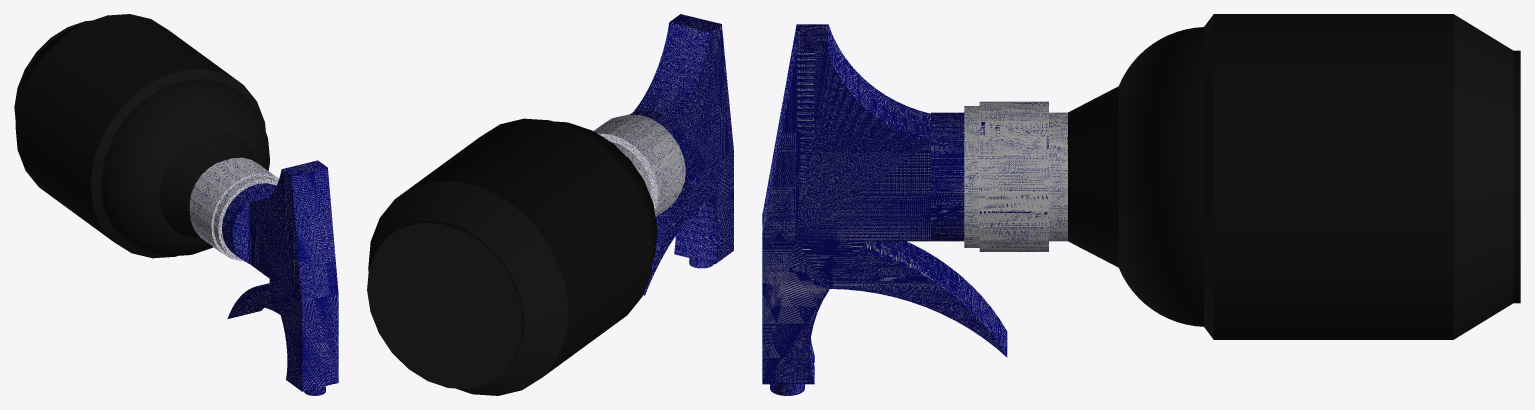
File: model_align.obj
The picture shows the model from 3 angles, left to right: view 1: azimuth 30°, elevation 25°; view 2: azimuth 150°, elevation 25°; view 3: azimuth 270°, elevation 25°; orthographic projection. The views are drawn at different scales.
Visible parts, largest first — view 1: mesh1_mesh1-geometry; view 2: mesh1_mesh1-geometry; view 3: mesh1_mesh1-geometry.
Part boxes in pixels (x1,y1,x2,y2): mesh1_mesh1-geometry: (14, 14, 338, 395); mesh1_mesh1-geometry: (367, 14, 733, 395); mesh1_mesh1-geometry: (762, 14, 1520, 395).
Bounding box in the file's own units: 0.0901 × 0.1089 × 0.2095.
